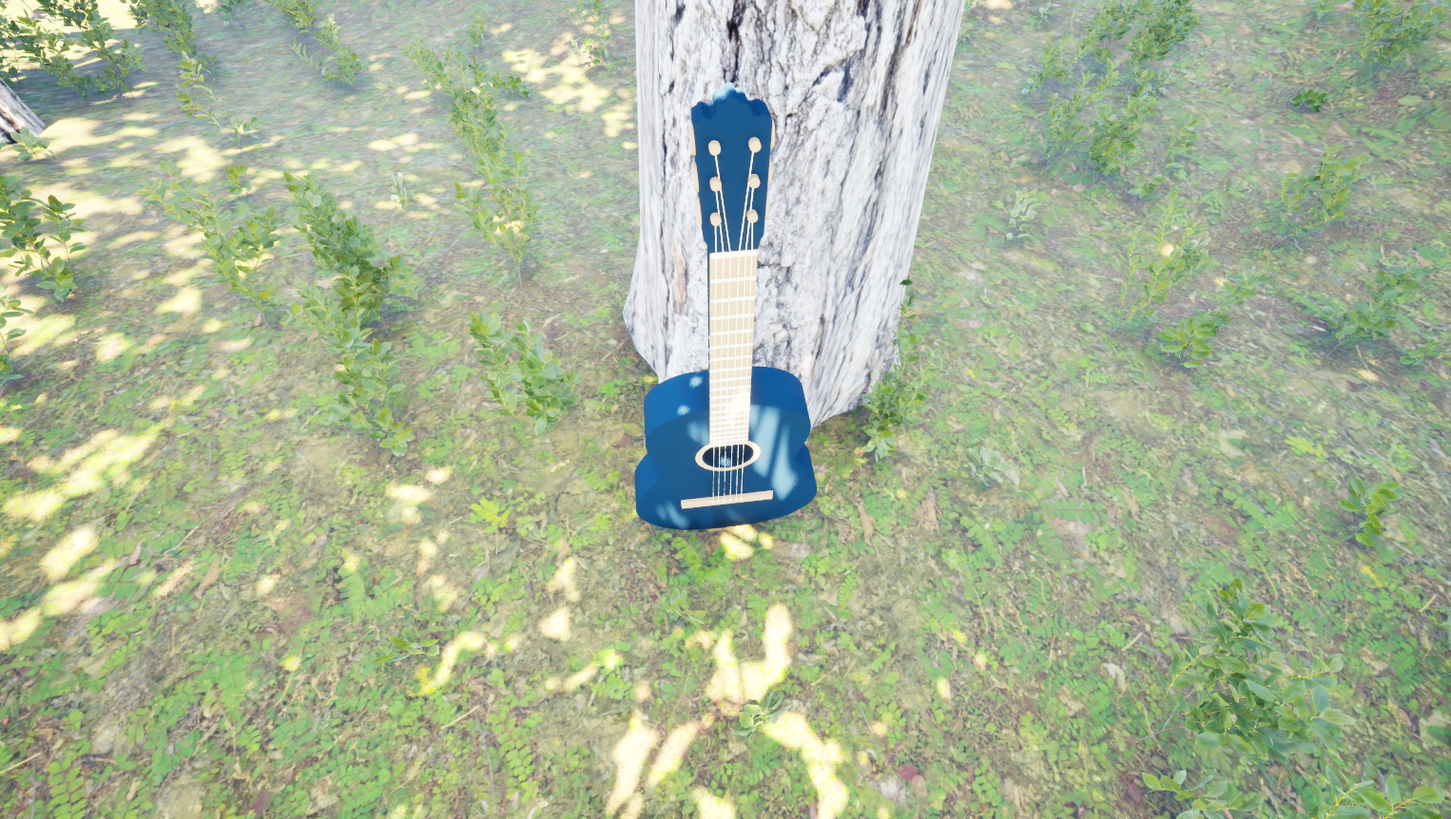Guitar: (517, 52, 936, 540)
